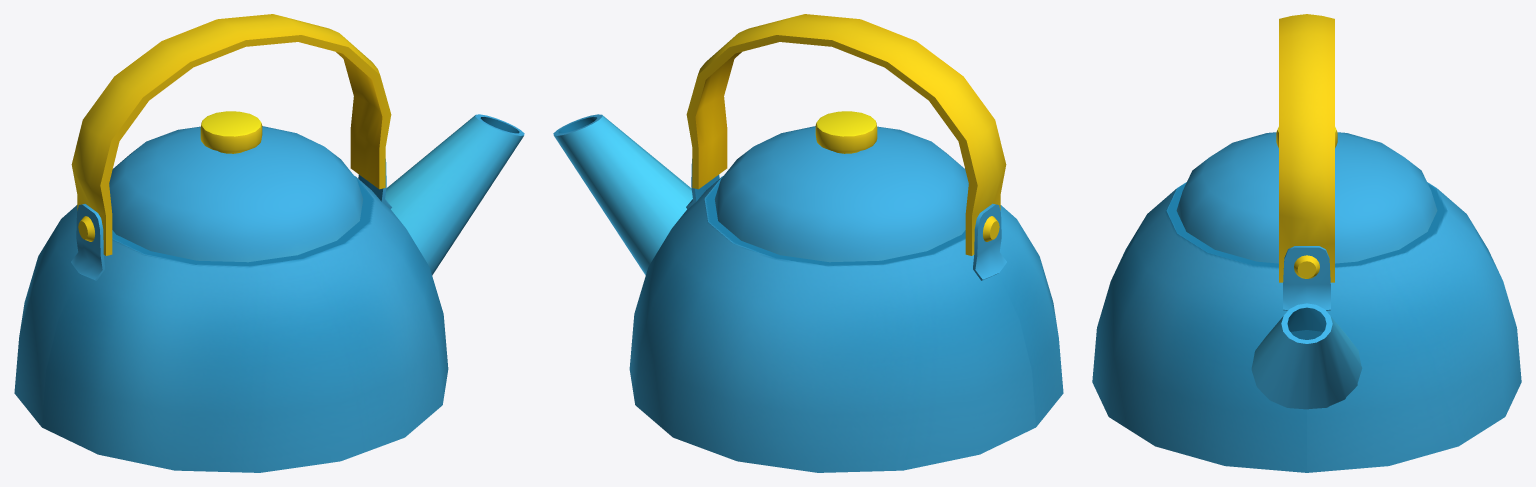
File: ENV2010074.fbx
The picture shows the model from 3 angles, left to right: view 1: azimuth 30°, elevation 25°; view 2: azimuth 150°, elevation 25°; view 3: azimuth 270°, elevation 25°; orthographic projection.
Visible parts, largest first — view 1: smENV2010074; view 2: smENV2010074; view 3: smENV2010074.
Boxes of the visible parts, bbox=[...] form: smENV2010074: bbox=[14, 14, 524, 472]; smENV2010074: bbox=[553, 14, 1063, 472]; smENV2010074: bbox=[1092, 14, 1521, 472].
Size of the model in its own units: 19.37 by 13.73 by 15.32.
1 material, 1 textured.
